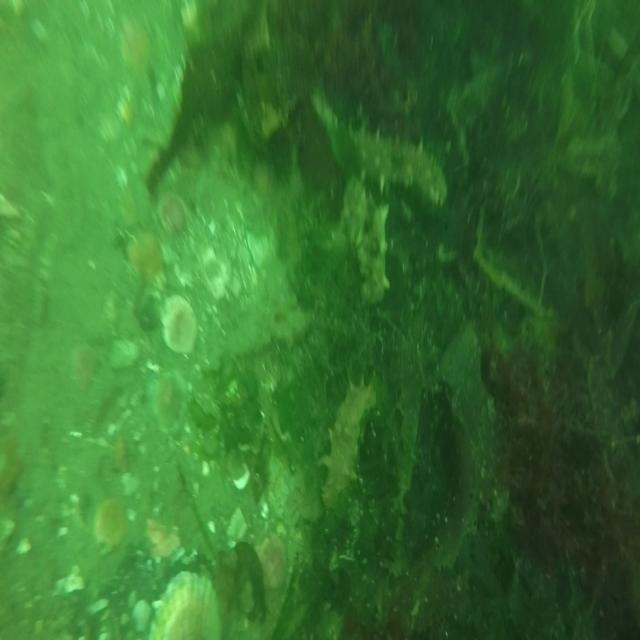holothurian: (344, 125, 452, 207), (316, 389, 375, 535), (341, 177, 392, 305)
scallop: (144, 572, 215, 640), (161, 293, 200, 353), (150, 372, 187, 432), (91, 496, 130, 552), (124, 230, 163, 275), (258, 532, 288, 589), (156, 194, 189, 238)
